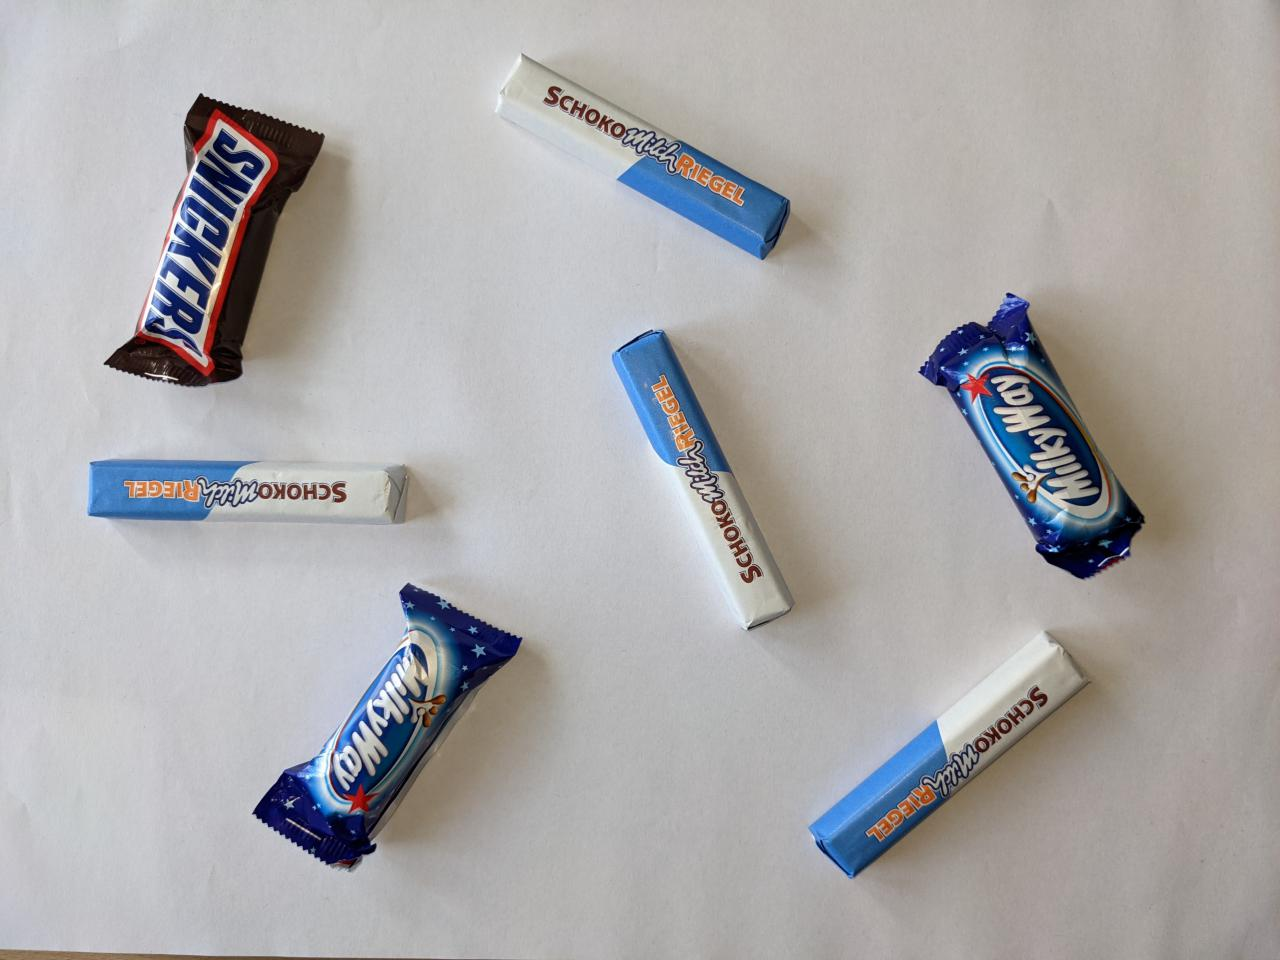MilkyWay: (247, 574, 533, 877), (910, 283, 1151, 583)
Schokoriegel: (801, 621, 1098, 884), (488, 49, 797, 263), (606, 321, 798, 640), (82, 452, 414, 530)
Snickers: (97, 86, 333, 394)
